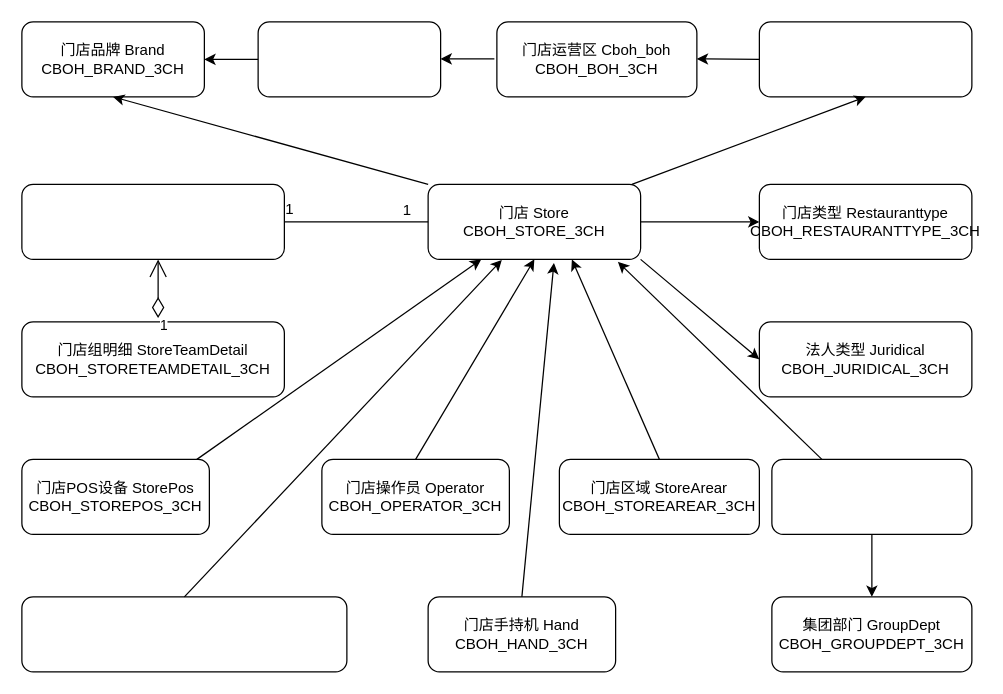
Some shapes in this 1003 by 694 pixel diagram are drawn without their labels. Each missing label, with the centre of its shape:
"门店市场 Cboh_market CBOH_MARKET_3CH" goes at point 349,59.
"门店打印机、打印字体、打印类型 StorePrint CBOH_STOREPRN_3CH" goes at point 184,634.
"门店督导区 Governor CBOH_GOVERNOR_3CH" goes at point 865,59.
"门店组 StoreTeam CBOH_STORETEAM_3CH" goes at point 152,221.
"门店部门 StoreDept CBOH_STOREDEPT_3CH" goes at point 871,496.
